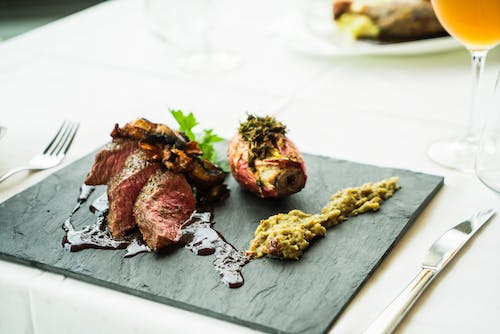knife: (360, 206, 496, 334)
